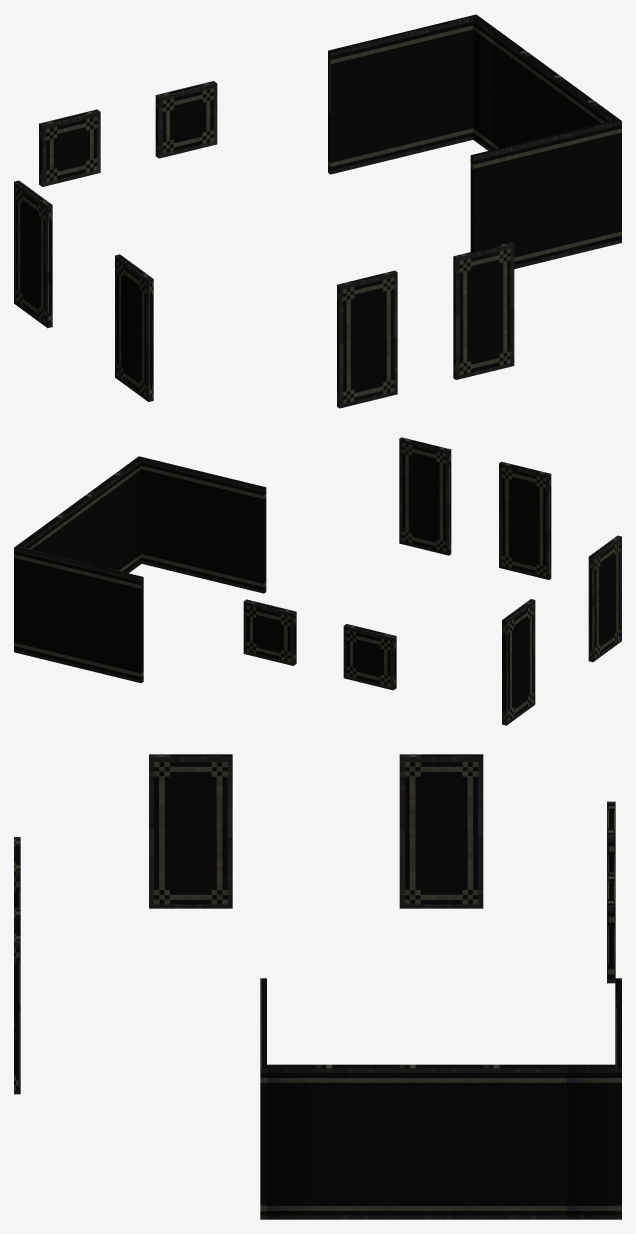
Rendered from casaCristales.obj.
The picture shows the model from 3 angles, top to bottom: view 1: azimuth 30°, elevation 25°; view 2: azimuth 150°, elevation 25°; view 3: azimuth 270°, elevation 25°; orthographic projection. The views are drawn at different scales.
Visible parts, largest first — view 1: Cube.259_Cube.324, Cube.260_Cube.325, Cube.308_Cube.389, Cube.252_Cube.315, Cube.313_Cube.408, Cube.251_Cube.314, Cube.254_Cube.317, Cube.309_Cube.390, Cube.315_Cube.410, Cube.253_Cube.316, Cube.316_Cube.411, Cube.311_Cube.392 (+16 smaller); view 2: Cube.259_Cube.324, Cube.260_Cube.325, Cube.308_Cube.389, Cube.313_Cube.408, Cube.252_Cube.315, Cube.251_Cube.314, Cube.316_Cube.411, Cube.253_Cube.316, Cube.254_Cube.317, Cube.284_Cube.388, Cube.315_Cube.410, Cube.309_Cube.390 (+16 smaller); view 3: Cube.326_Cube.010, Cube.324_Cube.008, Cube.328_Cube.012, Cube.258_Cube.323, Cube.256_Cube.319, Cube.257_Cube.322, Cube.325_Cube.009, Cube.255_Cube.318, Cube.323_Cube.007, Cube.327_Cube.011, Cube.321_Cube.005, Cube.322_Cube.006 (+7 smaller).
Part boxes in pixels (left/top/right/bottom): Cube.259_Cube.324: left=155, top=81, right=217, bottom=158; Cube.260_Cube.325: left=39, top=109, right=100, bottom=186; Cube.308_Cube.389: left=470, top=141, right=531, bottom=217; Cube.252_Cube.315: left=453, top=242, right=514, bottom=318; Cube.313_Cube.408: left=328, top=36, right=388, bottom=113; Cube.251_Cube.314: left=337, top=270, right=397, bottom=347; Cube.254_Cube.317: left=453, top=305, right=514, bottom=379; Cube.309_Cube.390: left=529, top=127, right=589, bottom=203; Cube.315_Cube.410: left=328, top=99, right=388, bottom=174; Cube.253_Cube.316: left=337, top=333, right=397, bottom=408; Cube.316_Cube.411: left=386, top=22, right=446, bottom=99; Cube.311_Cube.392: left=531, top=190, right=589, bottom=264; Cube.259_Cube.324: left=243, top=599, right=296, bottom=665; Cube.260_Cube.325: left=343, top=624, right=396, bottom=690; Cube.308_Cube.389: left=214, top=475, right=266, bottom=541; Cube.313_Cube.408: left=91, top=565, right=143, bottom=630; Cube.252_Cube.315: left=399, top=437, right=451, bottom=503; Cube.251_Cube.314: left=499, top=461, right=551, bottom=527; Cube.316_Cube.411: left=41, top=552, right=93, bottom=618; Cube.253_Cube.316: left=499, top=515, right=551, bottom=579; Cube.254_Cube.317: left=399, top=491, right=451, bottom=555; Cube.284_Cube.388: left=214, top=529, right=266, bottom=593; Cube.315_Cube.410: left=91, top=619, right=143, bottom=683; Cube.309_Cube.390: left=164, top=463, right=215, bottom=528; Cube.326_Cube.010: left=399, top=1064, right=483, bottom=1143; Cube.324_Cube.008: left=316, top=1064, right=399, bottom=1143; Cube.328_Cube.012: left=483, top=1064, right=566, bottom=1143; Cube.258_Cube.323: left=399, top=754, right=483, bottom=832; Cube.256_Cube.319: left=149, top=754, right=232, bottom=832; Cube.257_Cube.322: left=399, top=833, right=483, bottom=908; Cube.325_Cube.009: left=399, top=1144, right=483, bottom=1219; Cube.255_Cube.318: left=149, top=833, right=232, bottom=908; Cube.323_Cube.007: left=316, top=1144, right=399, bottom=1219; Cube.327_Cube.011: left=483, top=1144, right=566, bottom=1219; Cube.321_Cube.005: left=267, top=1064, right=316, bottom=1143; Cube.322_Cube.006: left=567, top=1064, right=615, bottom=1143.
Bounding box in the file's own units: 16.01 × 3.6 × 13.09.
9 materials, 9 textured.
